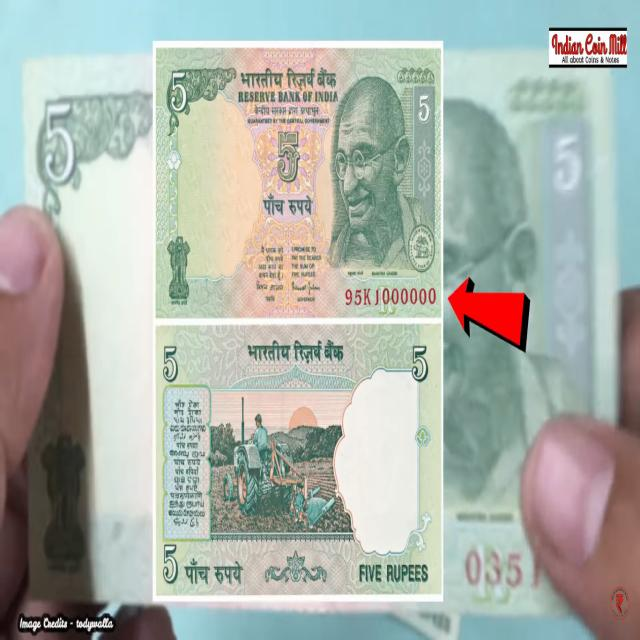5IndianRupees: (160, 330, 441, 591)
